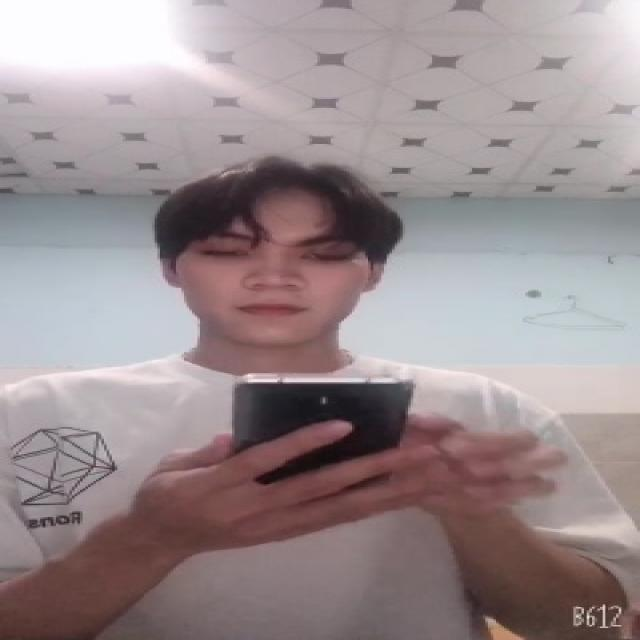Phone: (226, 373, 416, 475)
